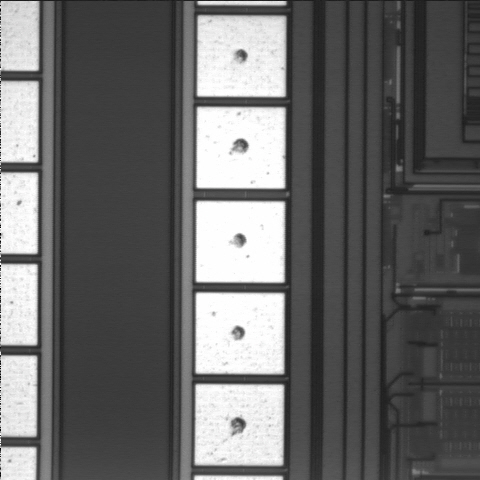pad: (196, 107, 285, 189), (196, 201, 285, 283), (195, 384, 284, 466), (197, 16, 286, 97), (196, 293, 284, 374)
